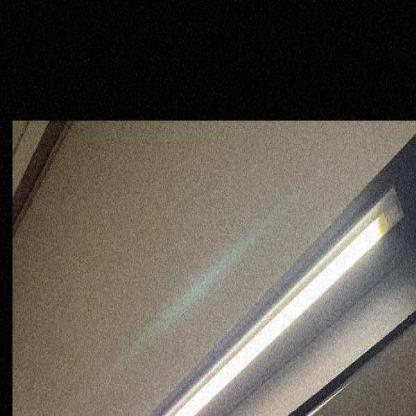light_on: (79, 175, 408, 415)
